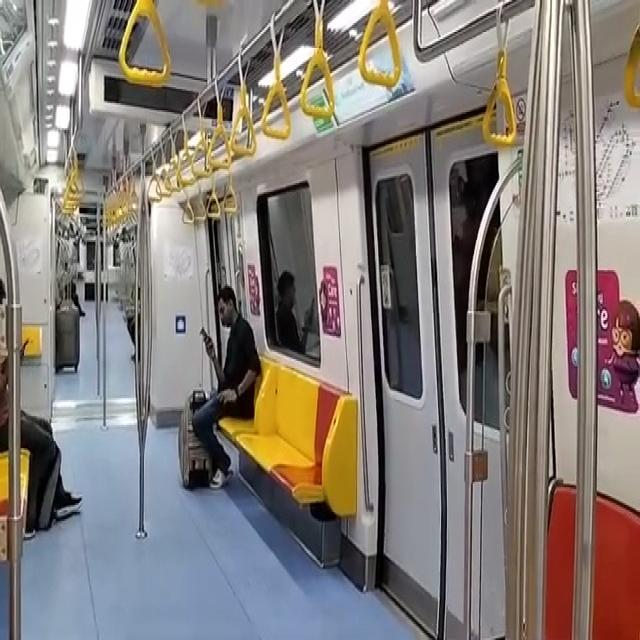bus-door: (357, 112, 519, 640)
